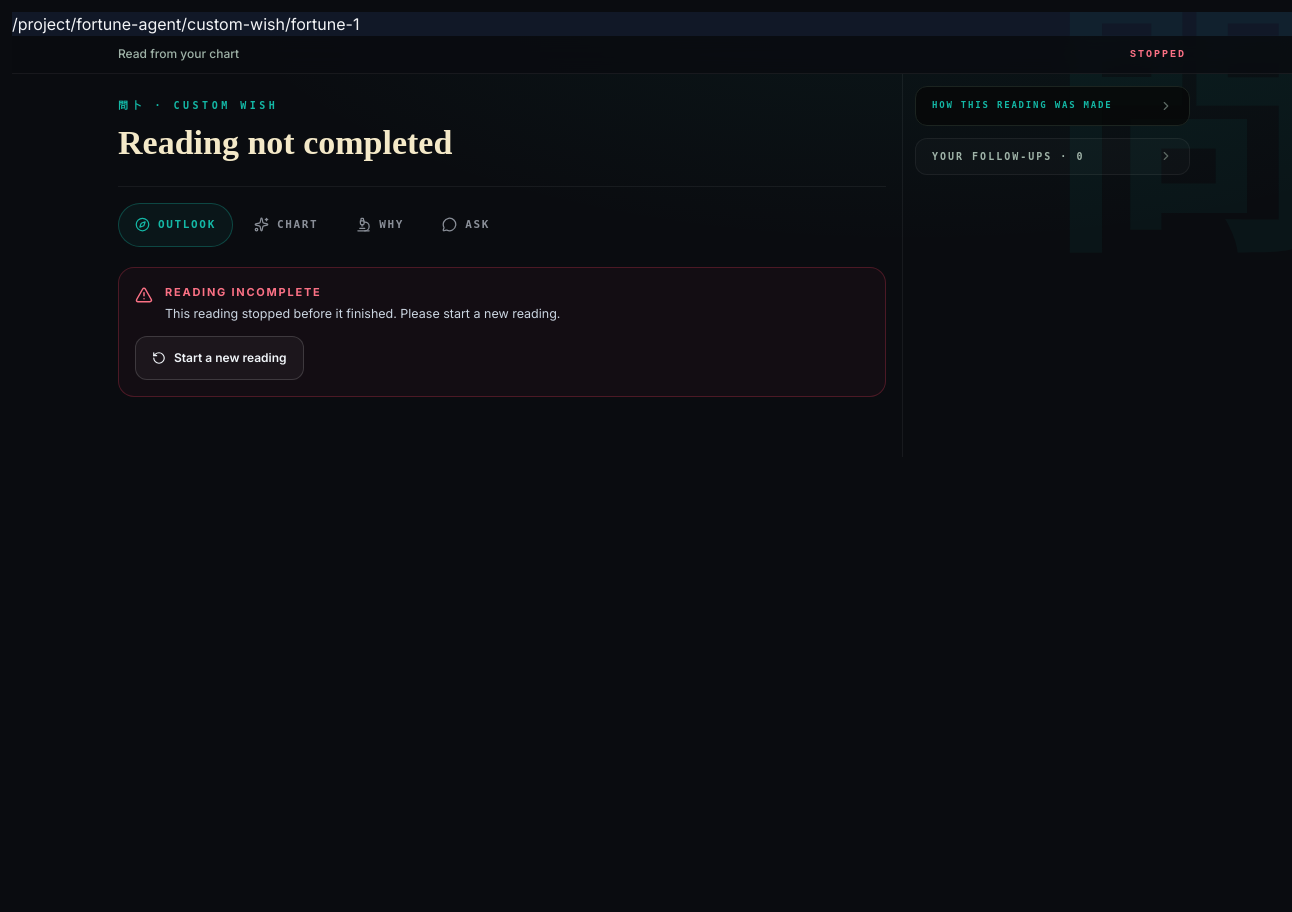
FortuneResultShell terminal states › falls back to generic copy for an empty error message and keeps the explorer reachable
Check: the text "This reading stopped before it finished. Please start a new reading." is shown, box top-left (165, 304), bottom-right (560, 324)
What coordinates should you click on to do the following:
click the tab "Why"
I would click on:
 (380, 225)
Its box is top-left (339, 203), bottom-right (421, 247).
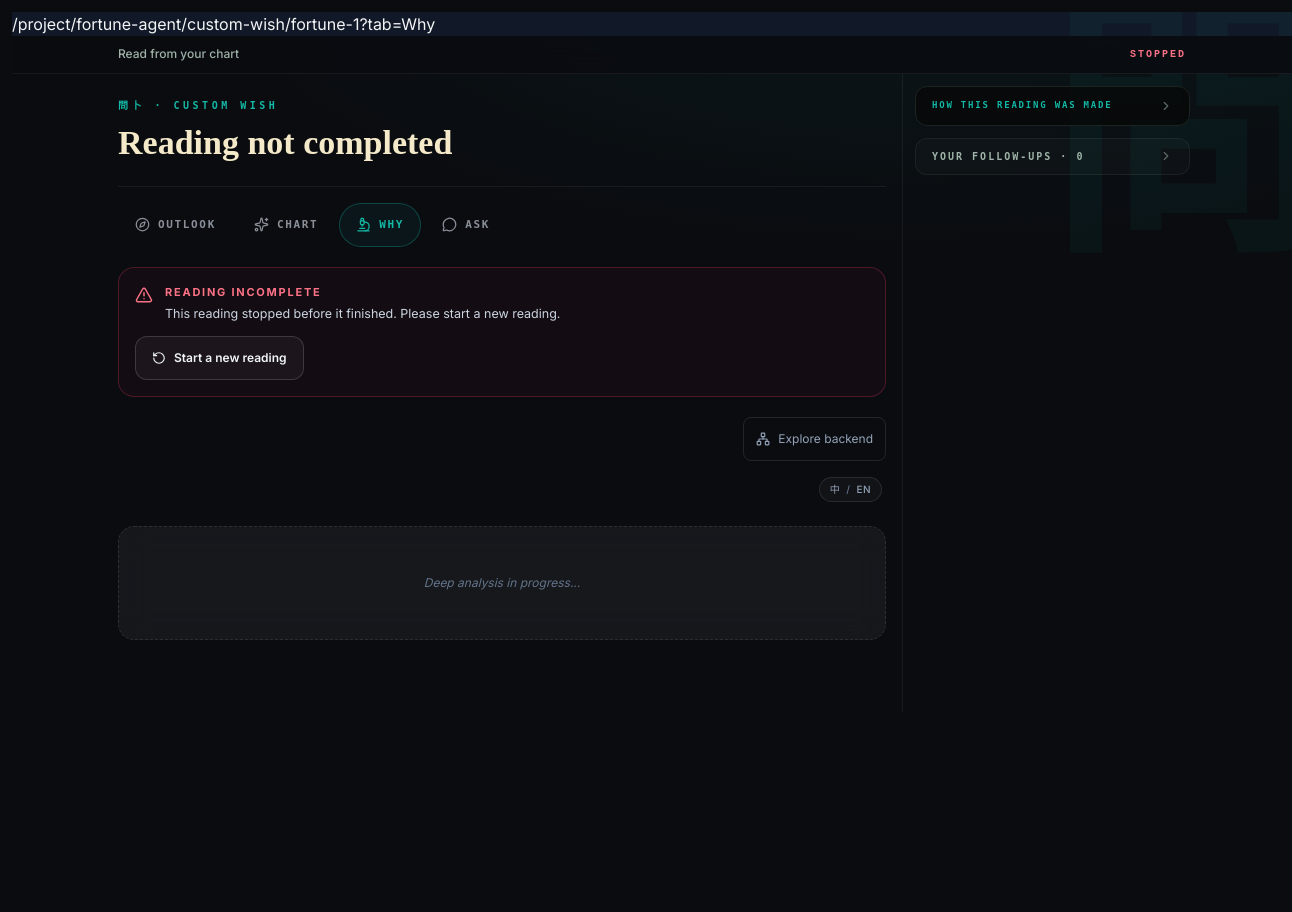
Check: the button "Explore backend" is shown, box top-left (743, 417), bottom-right (886, 461)
